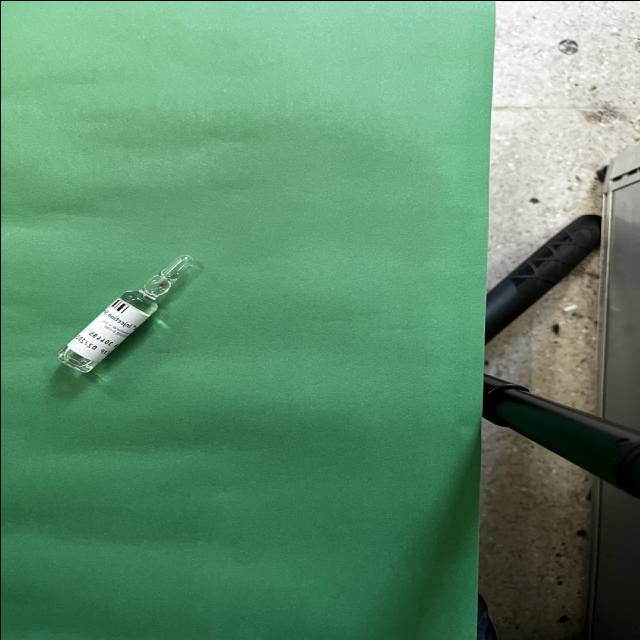Ampoules: (57, 254, 192, 372)
